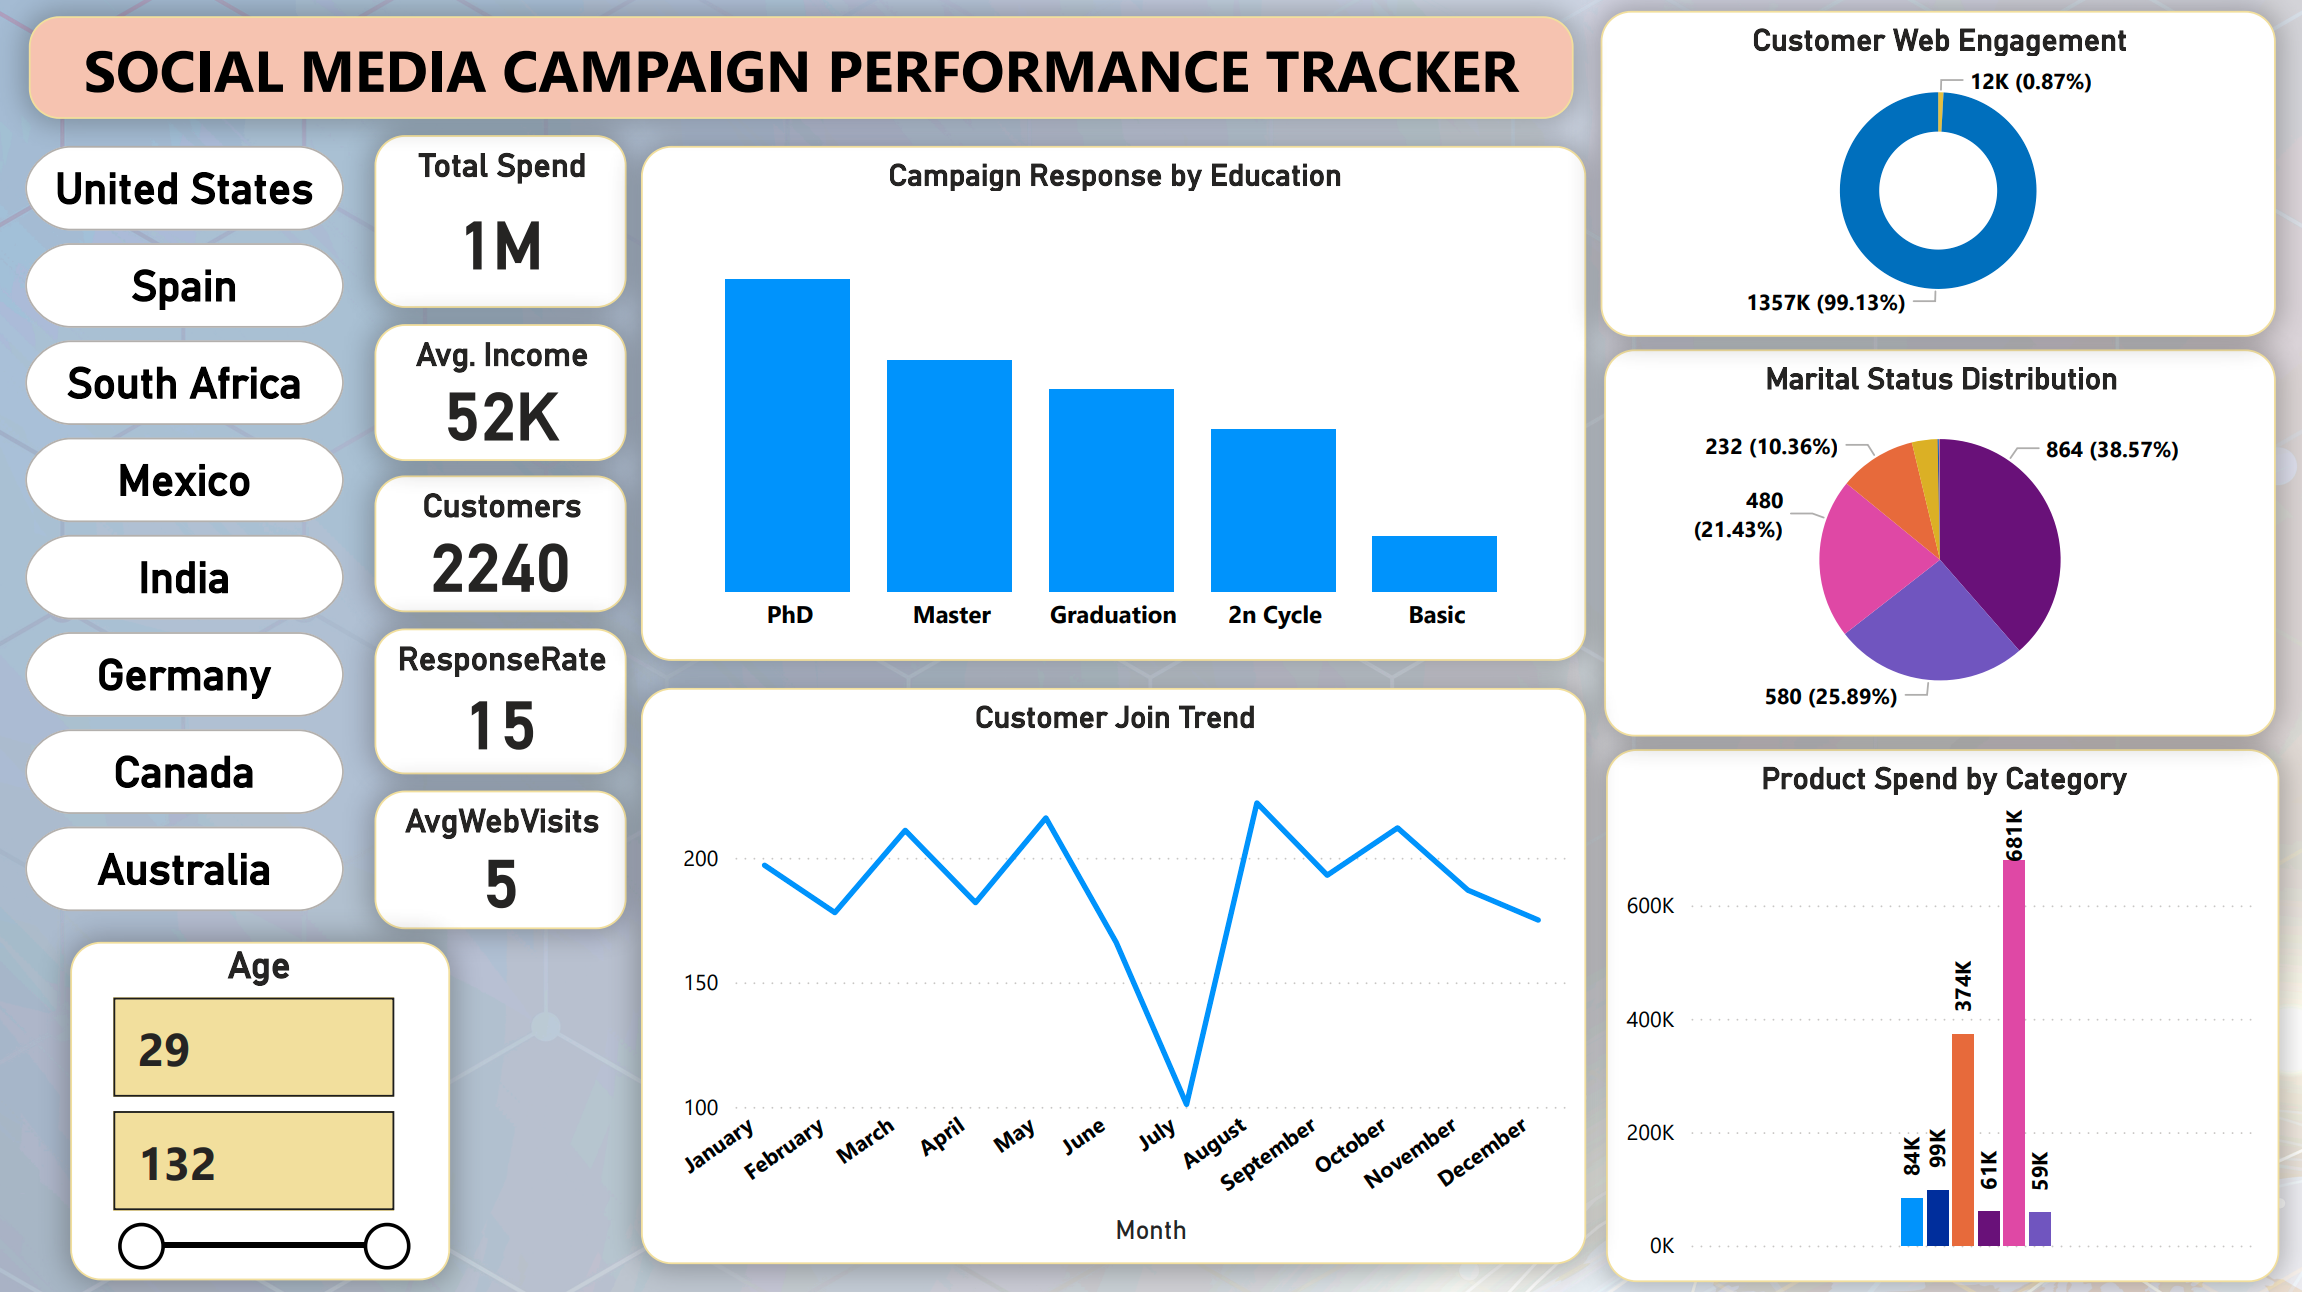

This screenshot's page, from the dashboard's own definition file:
{"tool":"powerbi","page":{"name":"Page 1","canvas":[1280,720],"ordinal":0},"visuals":[{"type":"card","title":"Customers","fields":{"Values":["CountNonNull(cleaned_marketing_data.ID)"]},"box":[136.1,265,140.4,75.9],"z":0},{"type":"card","title":"Total Spend","fields":{"Values":["cleaned_marketing_data.TotalSpend"]},"box":[136.1,75.9,140.4,96],"z":1000},{"type":"card","title":"Avg. Income","fields":{"Values":["Avg(cleaned_marketing_data.Income)"]},"box":[136.1,180.5,140.4,75.9],"z":2000},{"type":"card","title":"ResponseRate","fields":{"Values":["cleaned_marketing_data.ResponseRate"]},"box":[136.1,349.5,140.4,81.6],"z":3000},{"type":"clusteredColumnChart","title":"Product Spend by Category","fields":{"Y":["Sum(cleaned_marketing_data.MntFishProducts)","Sum(cleaned_marketing_data.MntGoldProds)","Sum(cleaned_marketing_data.MntMeatProducts)","Sum(cleaned_marketing_data.MntSweetProducts)","Sum(cleaned_marketing_data.MntWines)","Sum(cleaned_marketing_data.MntFruits)"]},"box":[845.8,413.1,419.6,297.7],"z":4000},{"type":"card","title":"AvgWebVisits","fields":{"Values":["cleaned_marketing_data.AvgWebVisits"]},"box":[136.1,439.7,140.4,77.3],"z":5000},{"type":"columnChart","title":"Campaign Response by Education","fields":{"Category":["cleaned_marketing_data.Education"],"Y":["Avg(cleaned_marketing_data.Response)"]},"box":[289.3,75.9,541.4,287.9],"z":6000},{"type":"pieChart","title":"Marital Status Distribution","fields":{"Category":["cleaned_marketing_data.Marital_Status"],"Y":["CountNonNull(cleaned_marketing_data.ID)"]},"box":[845.8,193.6,419.6,214.7],"z":7000},{"type":"advancedSlicerVisual","fields":{"Values":["cleaned_marketing_data.Country"]},"box":[15.8,75.9,108.9,441.2],"z":8000},{"type":"lineChart","title":"Customer Join Trend","fields":{"Category":["cleaned_marketing_data.Dt_Customer.Variation.Date Hierarchy.Month","cleaned_marketing_data.Dt_Customer.Variation.Date Hierarchy.Day"],"Y":["CountNonNull(cleaned_marketing_data.ID)"]},"box":[289.3,391,541.4,320.9],"z":9000},{"type":"donutChart","title":"Customer Web Engagement","fields":{"Y":["Sum(cleaned_marketing_data.NumWebVisitsMonth)","cleaned_marketing_data.TotalSpend"]},"box":[845.1,7.2,421.1,180.5],"z":10000},{"type":"slicer","title":"Age","fields":{"Values":["cleaned_marketing_data.Age"]},"box":[40,524.3,210.6,187.6],"z":12000},{"type":"textbox","box":[69.9,9,697.8,55.3],"z":12001}]}

Visuals, with their boxes in screenshot pixels (x1, y1, x2, y2), scaled from the page's 1280x720 canvas onto the 2302x1292 screenshot:
"Customers" card: (left=245, top=476, right=497, bottom=612)
"Total Spend" card: (left=245, top=136, right=497, bottom=308)
"Avg. Income" card: (left=245, top=324, right=497, bottom=460)
"ResponseRate" card: (left=245, top=627, right=497, bottom=774)
"Product Spend by Category" clusteredColumnChart: (left=1521, top=741, right=2276, bottom=1275)
"AvgWebVisits" card: (left=245, top=789, right=497, bottom=928)
"Campaign Response by Education" columnChart: (left=520, top=136, right=1494, bottom=653)
"Marital Status Distribution" pieChart: (left=1521, top=347, right=2276, bottom=733)
advancedSlicerVisual - cleaned_marketing_data.Country: (left=28, top=136, right=224, bottom=928)
"Customer Join Trend" lineChart: (left=520, top=702, right=1494, bottom=1277)
"Customer Web Engagement" donutChart: (left=1520, top=13, right=2277, bottom=337)
"Age" slicer: (left=72, top=941, right=451, bottom=1277)
textbox: (left=126, top=16, right=1381, bottom=115)
